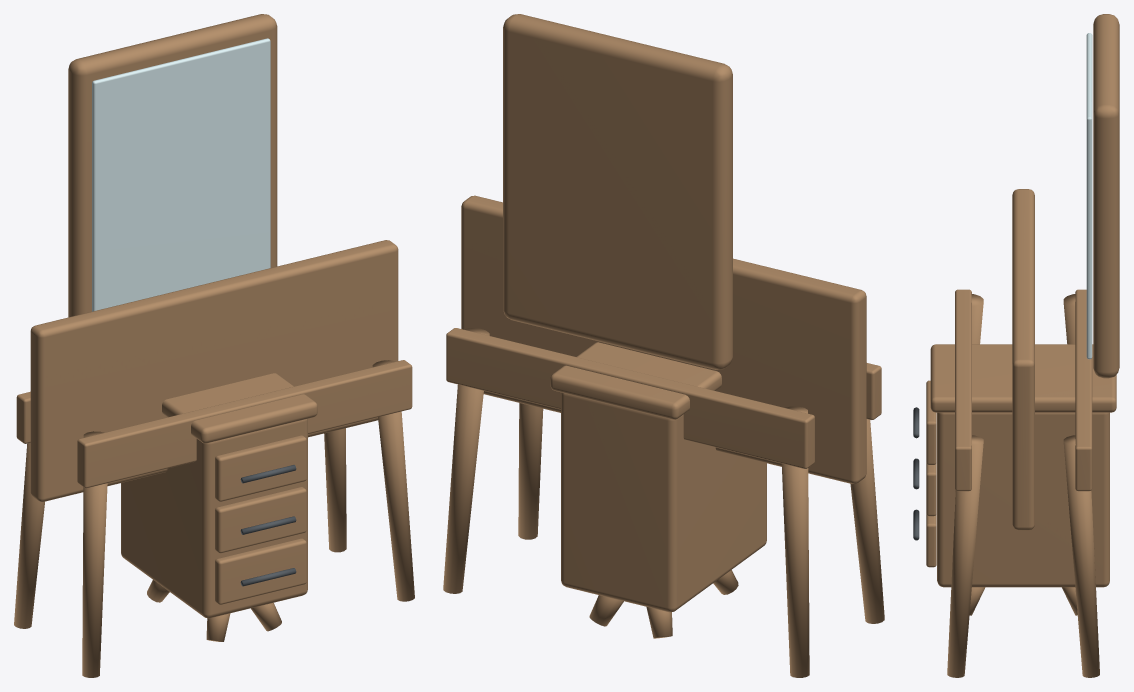
Rendered from atelier-vanity-table.glb.
3 renders of one model, left to right at view 1: azimuth 30°, elevation 25°; view 2: azimuth 150°, elevation 25°; view 3: azimuth 270°, elevation 25°, orthographic. The views are drawn at different scales.
Visible parts, largest first — view 1: legs.045, glass, metal.013; view 2: legs.045; view 3: legs.045, glass, metal.013.
Part boxes in pixels (left/top/right/bottom): legs.045: left=14, top=14, right=414, bottom=677; glass: left=92, top=38, right=270, bottom=311; metal.013: left=240, top=465, right=296, bottom=586; legs.045: left=443, top=14, right=884, bottom=677; legs.045: left=926, top=14, right=1119, bottom=677; glass: left=1086, top=33, right=1092, bottom=359; metal.013: left=913, top=407, right=919, bottom=540.
Size of the model in its own units: 1.1 by 1.59 by 0.548.
